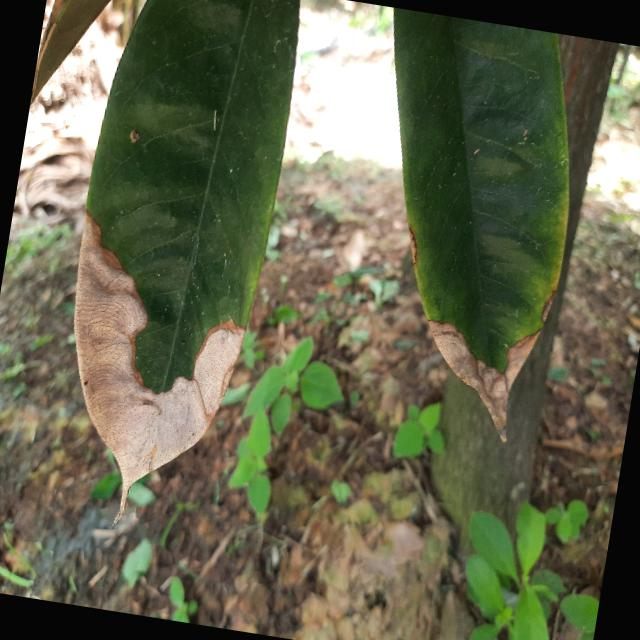Leaf Blight: (32, 0, 316, 527), (326, 7, 610, 449)
